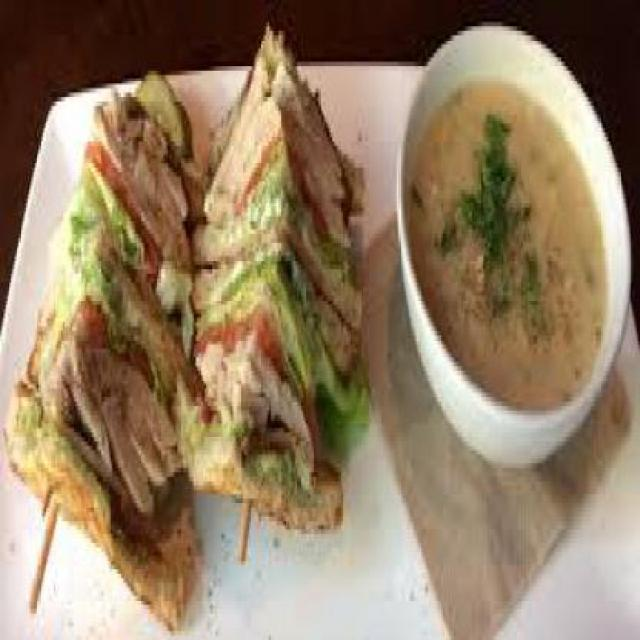clam chowder: (395, 13, 627, 495)
club sandwich: (20, 9, 380, 596)
